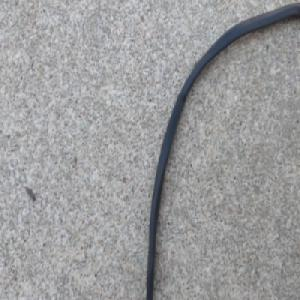Wire: (143, 3, 300, 300)
